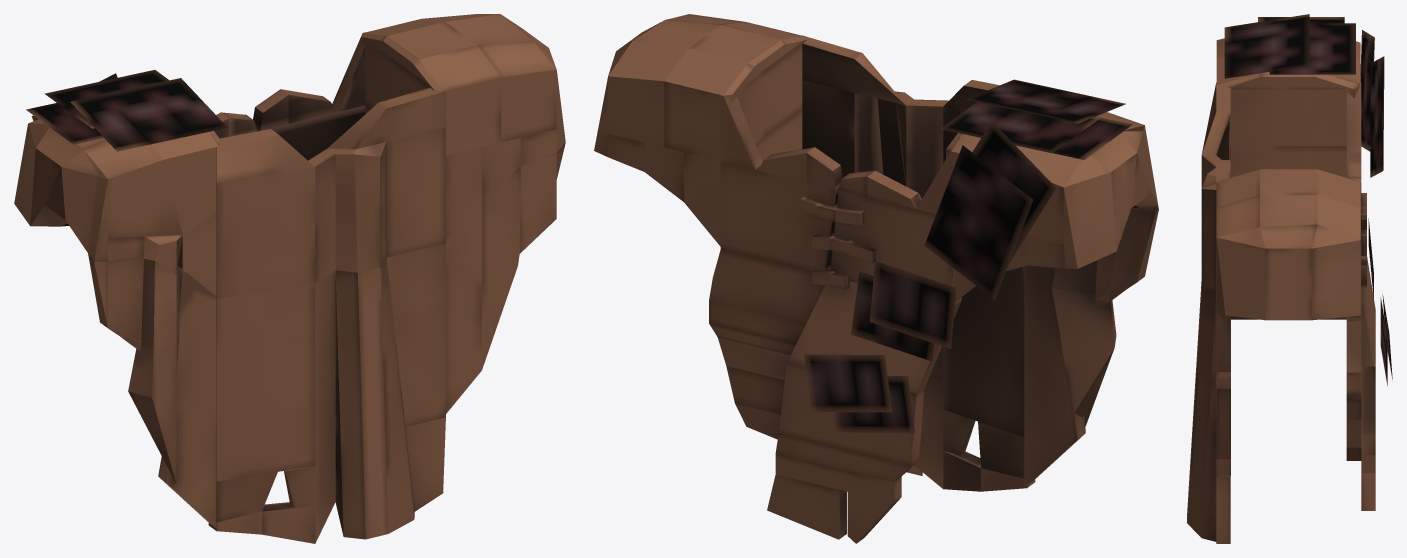
3 views of the same model, side by side, from view 1: azimuth 30°, elevation 25°; view 2: azimuth 150°, elevation 25°; view 3: azimuth 270°, elevation 25° (orthographic). The views are drawn at different scales.
Parts seen in each view (by area): view 1: bodyModel, left_arm, right_arm; view 2: bodyModel, left_arm, right_arm; view 3: right_arm, left_arm, bodyModel.
Boxes of the visible parts, box(x1,y1,x2,y2) form: bodyModel: box(208, 32, 445, 543); left_arm: box(14, 70, 227, 527); right_arm: box(361, 14, 565, 413); bodyModel: box(709, 35, 1035, 543); left_arm: box(924, 79, 1158, 487); right_arm: box(594, 14, 806, 246); right_arm: box(1216, 169, 1360, 475); left_arm: box(1216, 14, 1384, 177); bodyModel: box(1187, 82, 1392, 543).
Size of the model in its own units: 1.12 by 0.9773 by 0.4461.
Materials: 1 (1 with a texture image).
